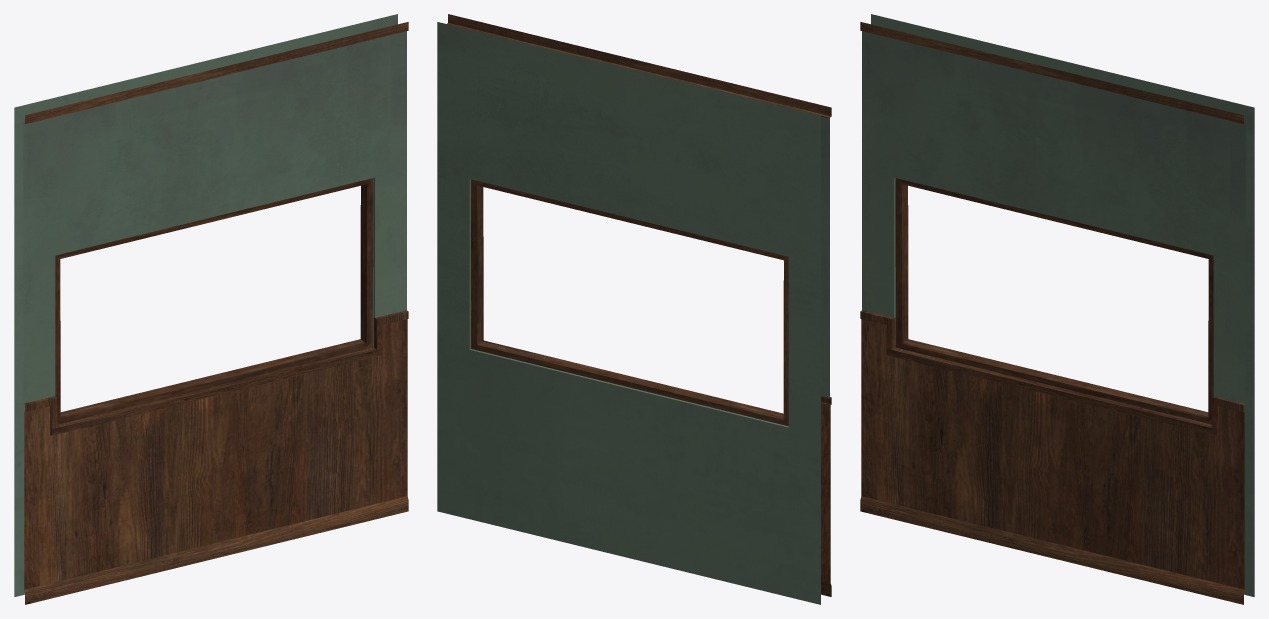
The model's file is MT_RecWinW.fbx.
3 renders of one model, left to right at view 1: azimuth 30°, elevation 25°; view 2: azimuth 150°, elevation 25°; view 3: azimuth 330°, elevation 25°, orthographic.
Parts seen in each view (by area): view 1: WindowWall.001; view 2: WindowWall.001; view 3: WindowWall.001.
Part boxes in pixels (x1=…): WindowWall.001: x1=14, y1=14, x2=408, y2=604; WindowWall.001: x1=437, y1=14, x2=831, y2=604; WindowWall.001: x1=860, y1=14, x2=1254, y2=604.
Size of the model in its own units: 250 by 305 by 12.48.
Materials: 1 (1 with a texture image).
